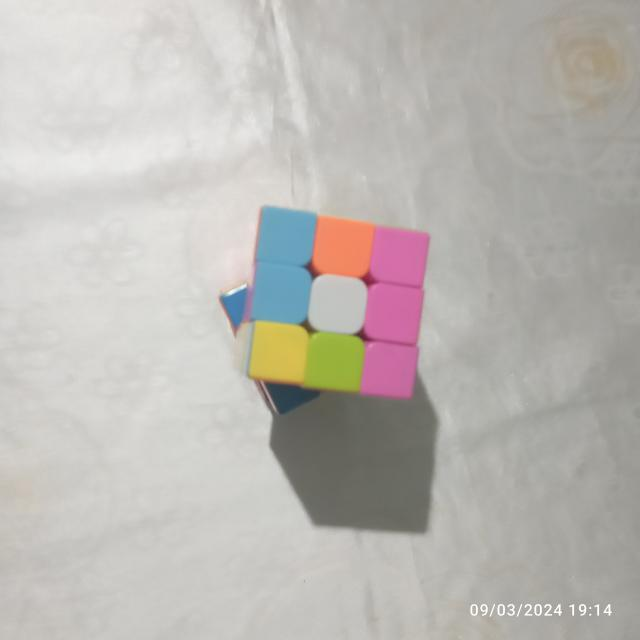Rub: (214, 202, 432, 424)
